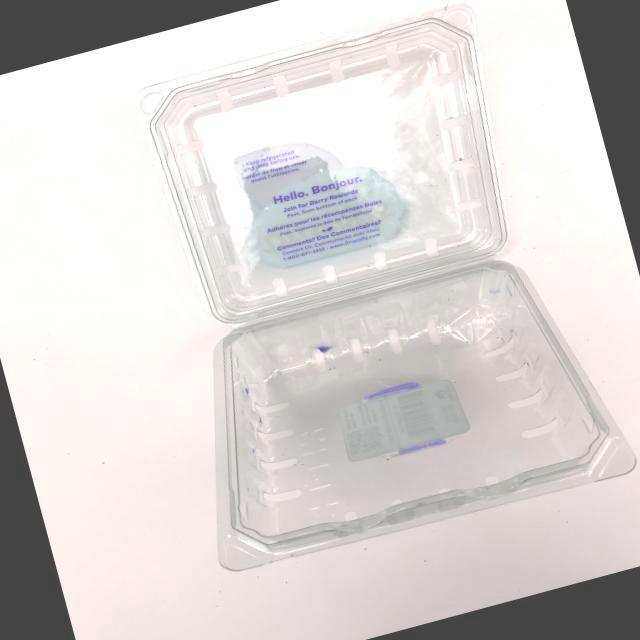plastic: (38, 0, 640, 624)
